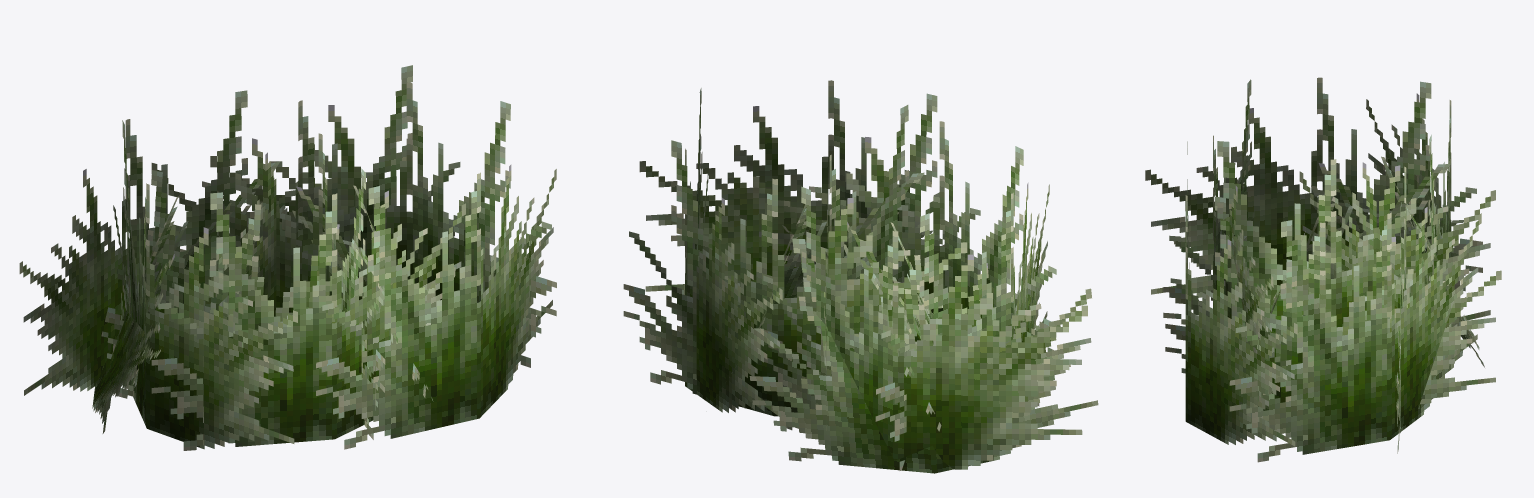
The model's file is Grass.fbx.
3 views of the same model, side by side, from view 1: azimuth 30°, elevation 25°; view 2: azimuth 150°, elevation 25°; view 3: azimuth 270°, elevation 25° (orthographic). The views are drawn at different scales.
Visible parts, largest first — view 1: Grass; view 2: Grass; view 3: Grass.
Boxes of the visible parts, box(x1,y1,x2,y2) form: Grass: box(19, 65, 556, 450); Grass: box(623, 80, 1098, 473); Grass: box(1145, 77, 1501, 462).
Bounding box in the file's own units: 0.5933 × 0.346 × 0.4136.
1 material, 1 textured.
